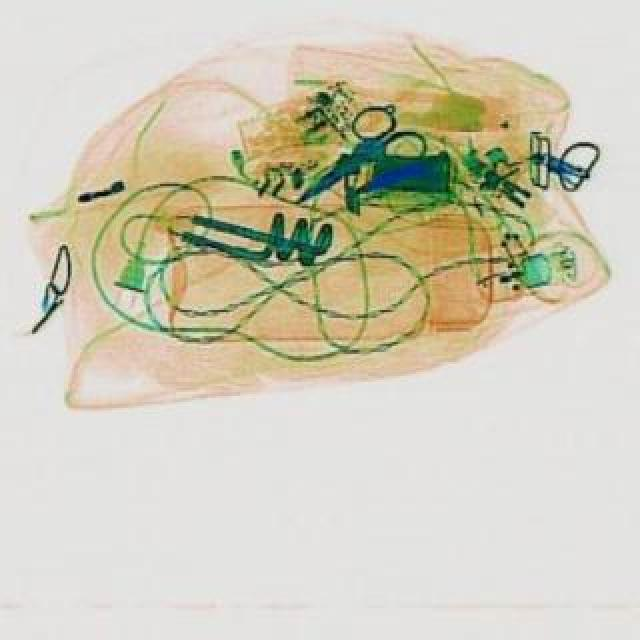pliers: (266, 88, 432, 230)
